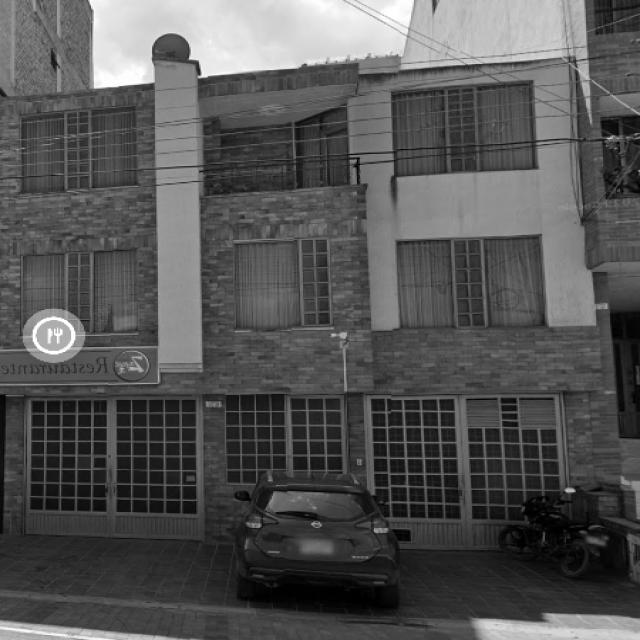Fachada: (1, 53, 620, 546)
